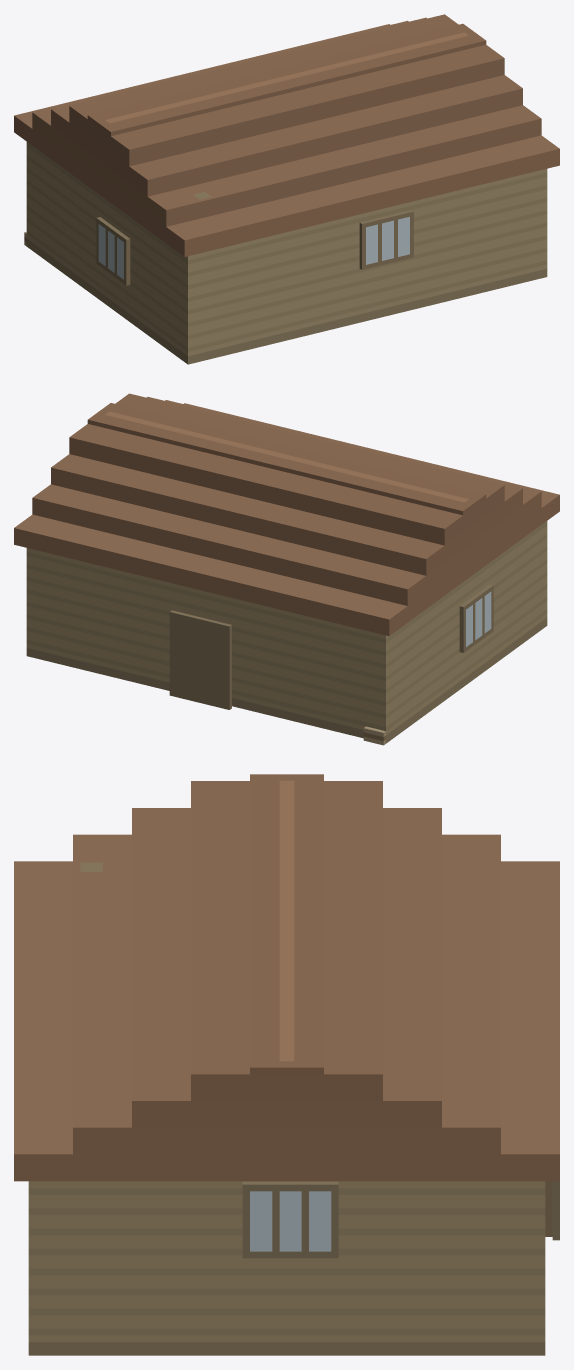
The model's file is taller_sastre_04.glb.
3 views of the same model, one above another, from view 1: azimuth 30°, elevation 25°; view 2: azimuth 150°, elevation 25°; view 3: azimuth 270°, elevation 25° (orthographic). The views are drawn at different scales.
Visible parts, largest first — view 1: taller_sastre_04; view 2: taller_sastre_04; view 3: taller_sastre_04.
Part boxes in pixels (x1=…): taller_sastre_04: x1=14, y1=14, x2=559, y2=364; taller_sastre_04: x1=14, y1=393, x2=559, y2=745; taller_sastre_04: x1=14, y1=774, x2=559, y2=1355.
Size of the model in its own units: 9.4 by 4.4 by 7.4.
